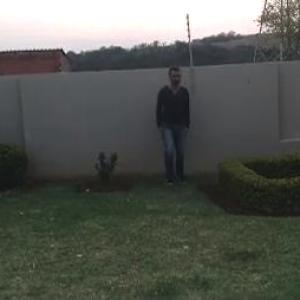follow: (152, 60, 192, 195)
